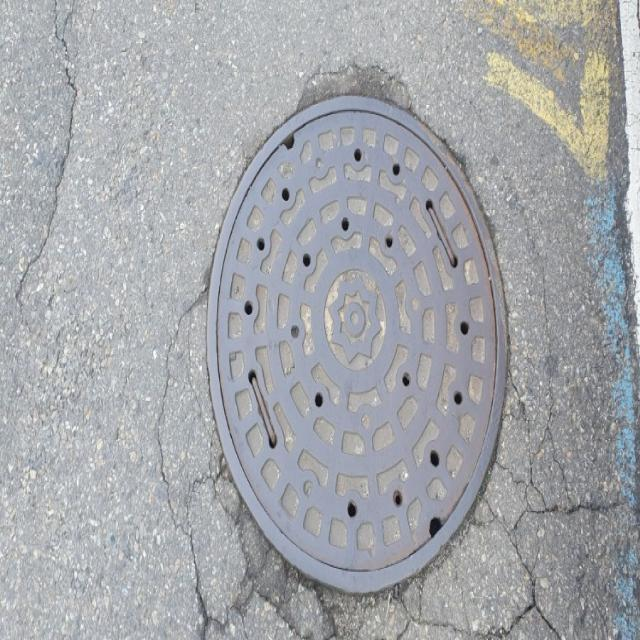manhole: (208, 96, 506, 592)
